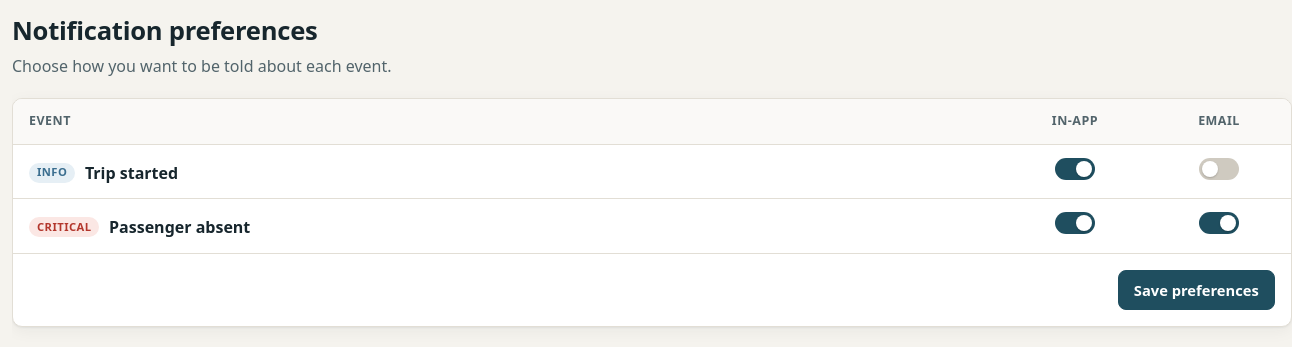
PreferencesPage › saves the toggled preferences
The image size is (1292, 347).
Step 1. Click the checkbox named "Trip started — Email" → [1219, 168], box x1=1199 y1=158 x2=1239 y2=180
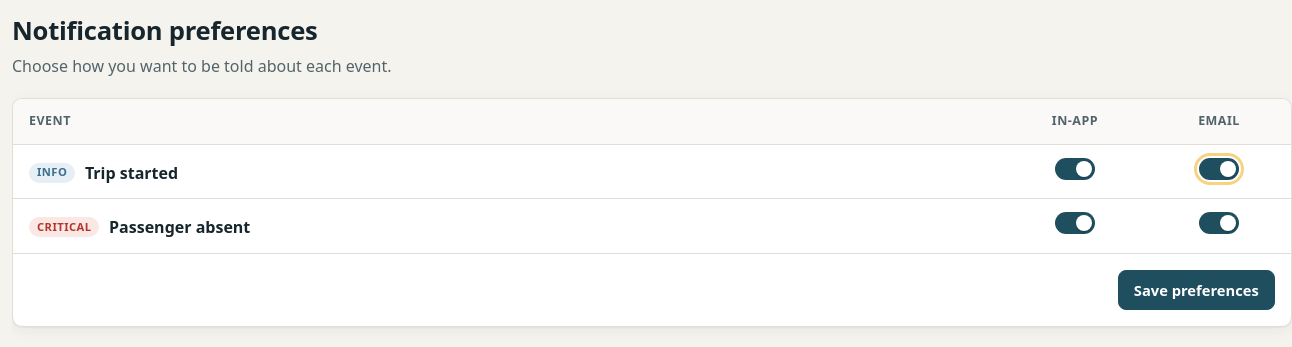
Step 2. Click the button "Save preferences" → [1196, 290], box x1=1118 y1=270 x2=1275 y2=310
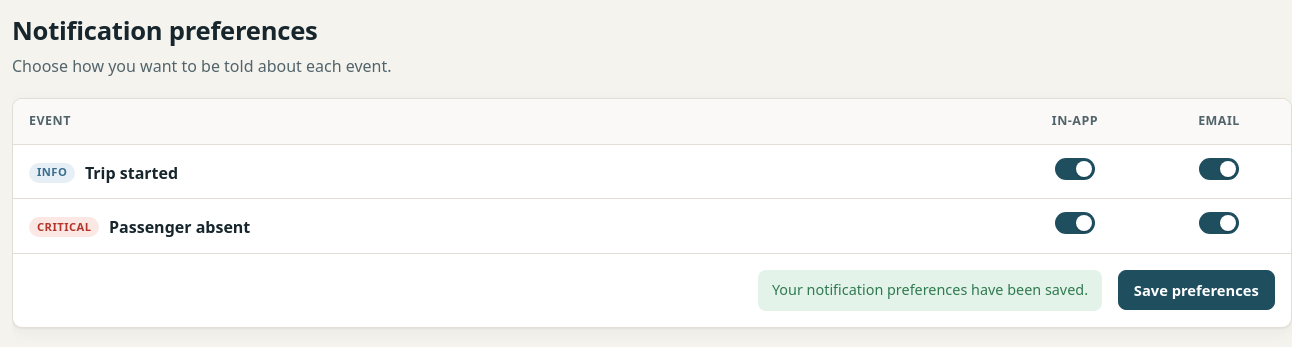
Now the checkbox named "Trip started — Email" is checked, box x1=1199 y1=158 x2=1239 y2=180
Now the message reads "Your notification preferences have been saved.", box x1=772 y1=280 x2=1088 y2=300
